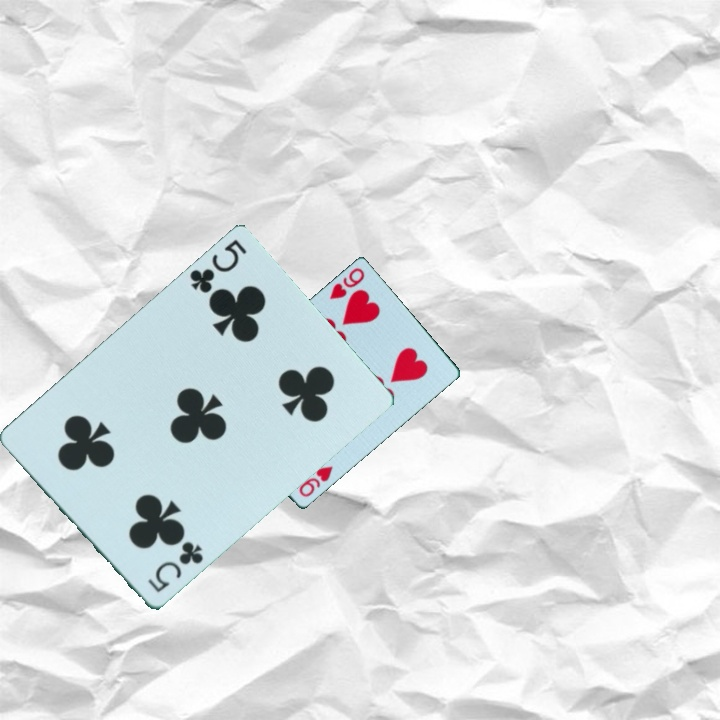5c: (185, 236, 250, 297), (144, 538, 206, 597)
9h: (326, 264, 368, 303), (295, 462, 336, 501)
